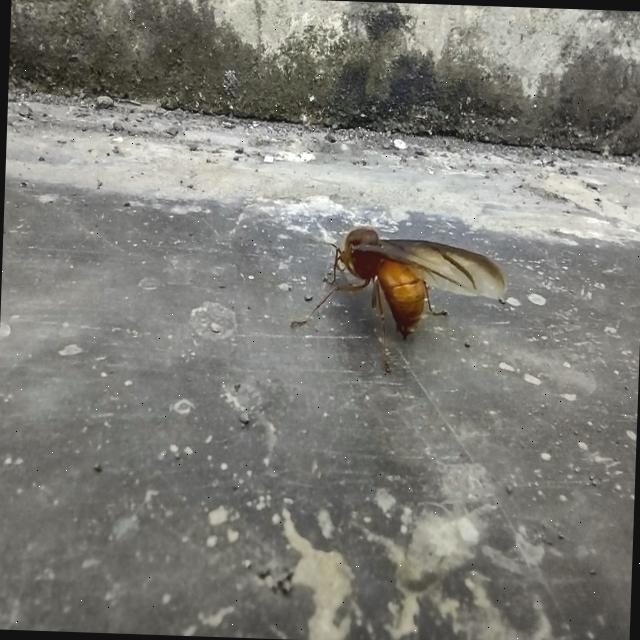Alive-Male-Alate: (288, 225, 508, 377)
